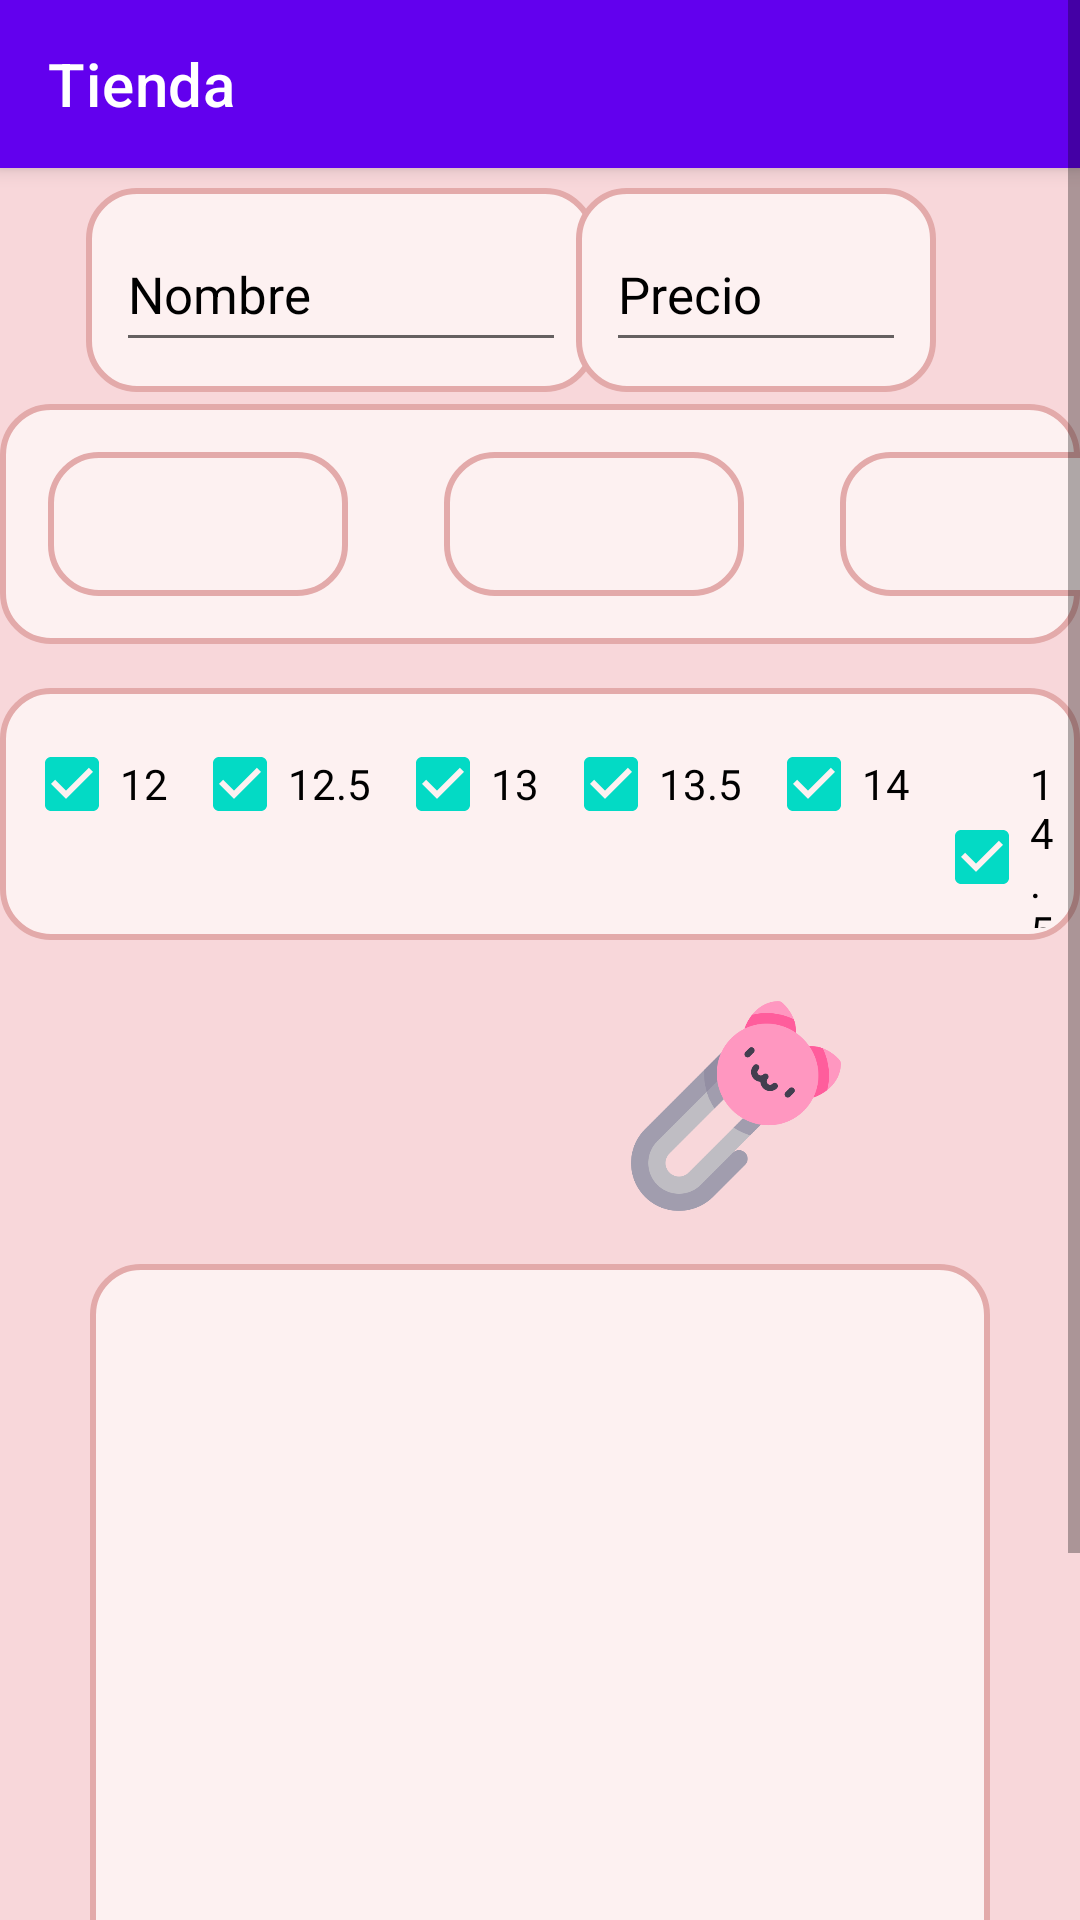

Where icons sit on this 1080 × 1920 app screen, as (x1, y1, x2, y2):
clip: (631, 1001, 841, 1211)
